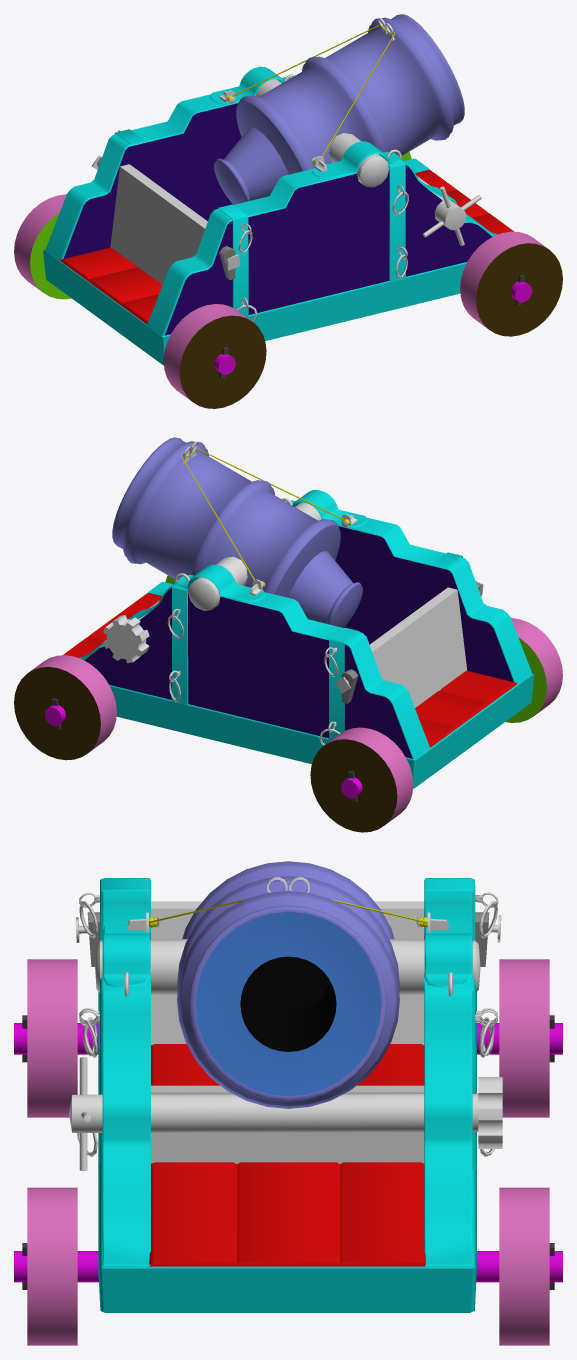
3 renders of one model, top to bottom at view 1: azimuth 30°, elevation 25°; view 2: azimuth 150°, elevation 25°; view 3: azimuth 270°, elevation 25°, orthographic. The views are drawn at different scales.
Visible parts, largest first — view 1: sidewalls_low, barrel_low, weels_low, bottom_low, boards_low, barrelhinges_low, shaft_low, rings_low, cord_low, crossbar_low; view 2: sidewalls_low, barrel_low, weels_low, bottom_low, boards_low, gear_lp, barrelhinges_low, rings_low, cord_low, crossbar_low; view 3: bottom_low, barrel_low, sidewalls_low, weels_low, boards_low, shaft_low, barrelhinges_low, rings_low, gear_lp, crossbar_low, cordfasteners_low, cord_low.
Boxes of the visible parts, box(x1,y1,x2,y2) form: sidewalls_low: box(45, 66, 497, 335); barrel_low: box(214, 14, 464, 204); weels_low: box(14, 152, 562, 408); bottom_low: box(43, 169, 513, 365); boards_low: box(110, 164, 207, 284); barrelhinges_low: box(256, 79, 389, 187); shaft_low: box(417, 176, 481, 245); rings_low: box(118, 74, 408, 321); cord_low: box(232, 18, 394, 156); crossbar_low: box(91, 155, 240, 280); sidewalls_low: box(79, 490, 532, 759); barrel_low: box(112, 437, 362, 627); weels_low: box(14, 575, 562, 832); bottom_low: box(63, 592, 534, 788); boards_low: box(370, 587, 467, 707); gear_lp: box(103, 615, 149, 663); barrelhinges_low: box(188, 502, 321, 610); rings_low: box(167, 498, 458, 745); cord_low: box(182, 441, 344, 579); crossbar_low: box(335, 581, 483, 703); bottom_low: box(98, 992, 476, 1312); barrel_low: box(177, 861, 399, 1108); sidewalls_low: box(98, 878, 476, 1267); weels_low: box(14, 959, 562, 1345); boards_low: box(151, 901, 424, 1163); shaft_low: box(69, 1057, 478, 1171); barrelhinges_low: box(95, 939, 480, 994); rings_low: box(77, 892, 498, 1156); gear_lp: box(478, 1077, 502, 1148); crossbar_low: box(75, 912, 501, 966); cordfasteners_low: box(127, 912, 448, 933); cord_low: box(149, 877, 427, 923).
Bounding box in the file's own units: 157 × 104 × 124.
